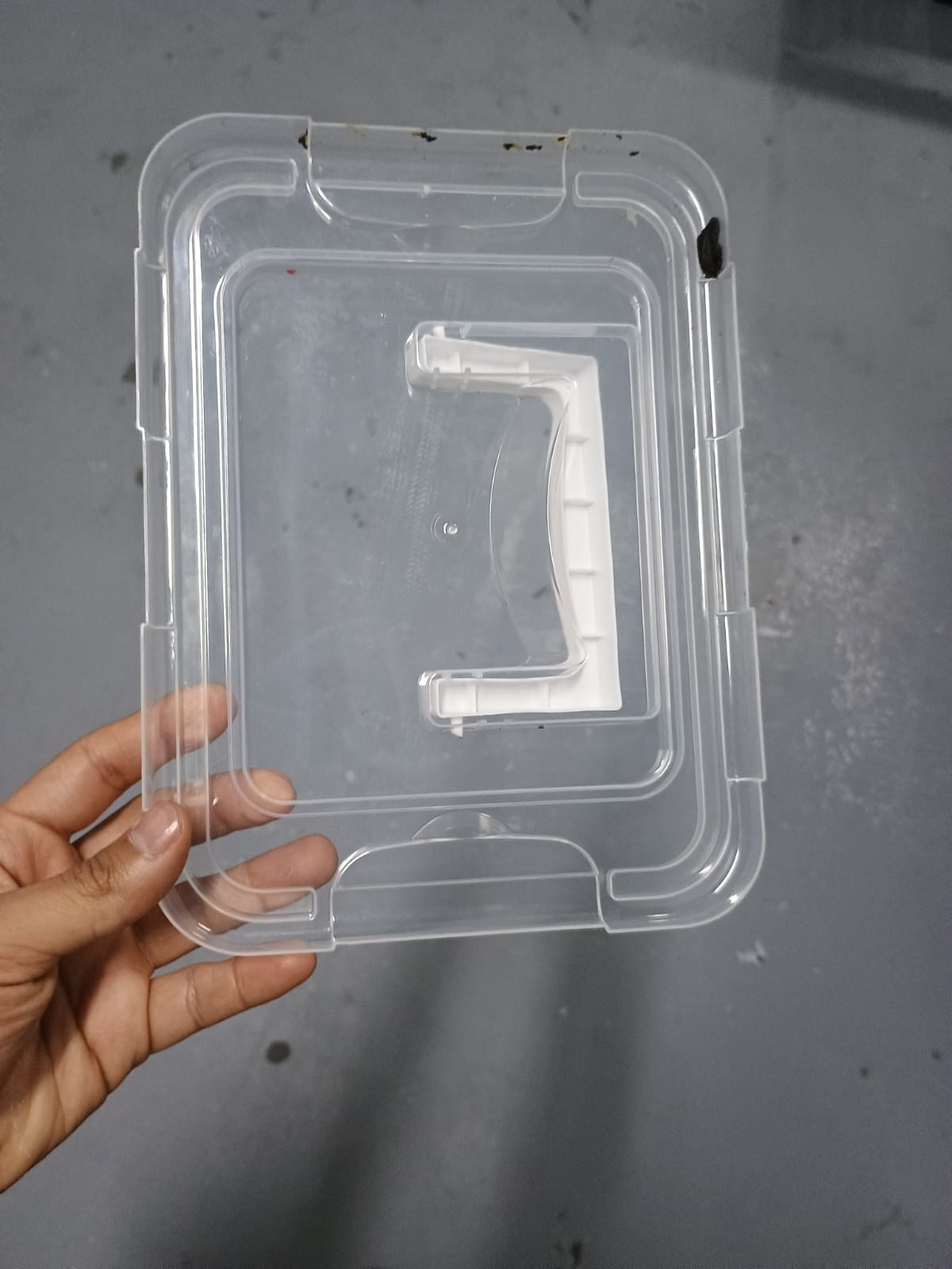Plastico: (135, 115, 770, 958)
